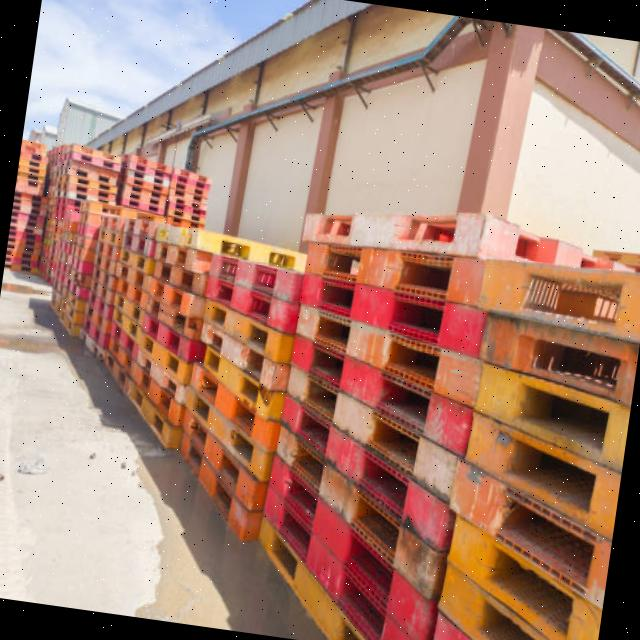Wooden-Pallets: (84, 204, 640, 640), (261, 440, 441, 640), (277, 395, 457, 562), (287, 298, 484, 417), (288, 332, 474, 455), (299, 269, 487, 361), (178, 393, 262, 526), (192, 356, 273, 451), (196, 295, 284, 370), (72, 137, 124, 176), (169, 166, 216, 190)
